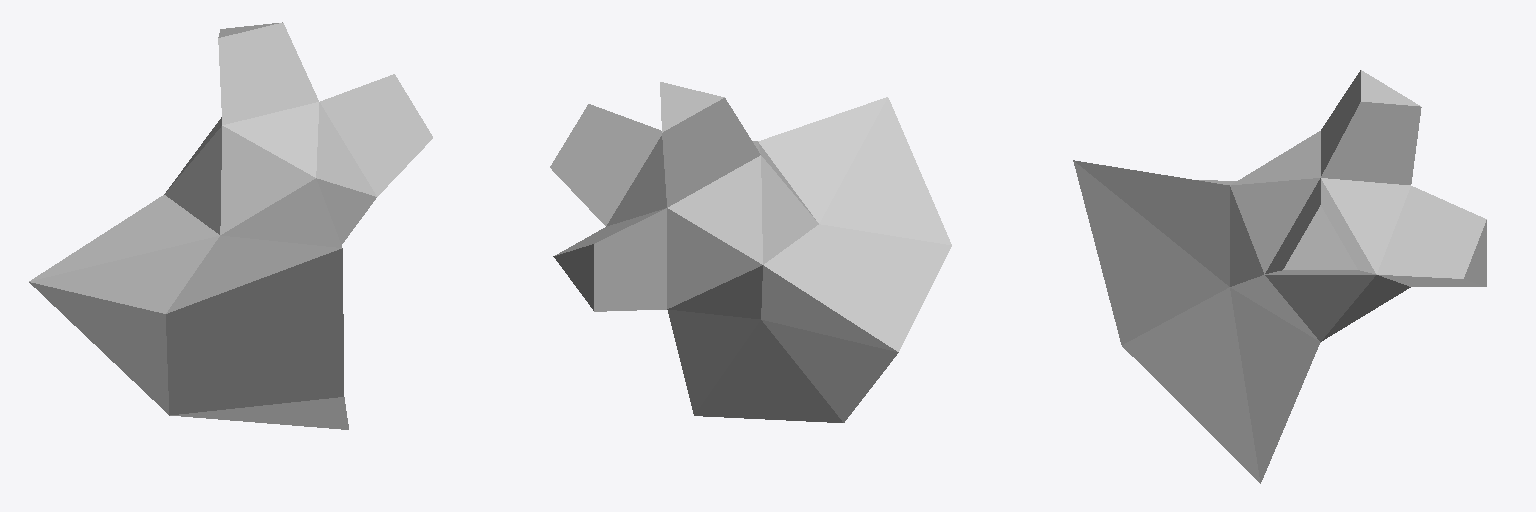
File: strange-triangulated.obj
The picture shows the model from 3 angles: view 1: azimuth 30°, elevation 25°; view 2: azimuth 150°, elevation 25°; view 3: azimuth 270°, elevation 25°; orthographic projection.
Size of the model in its own units: 3.88 by 3.88 by 3.88.